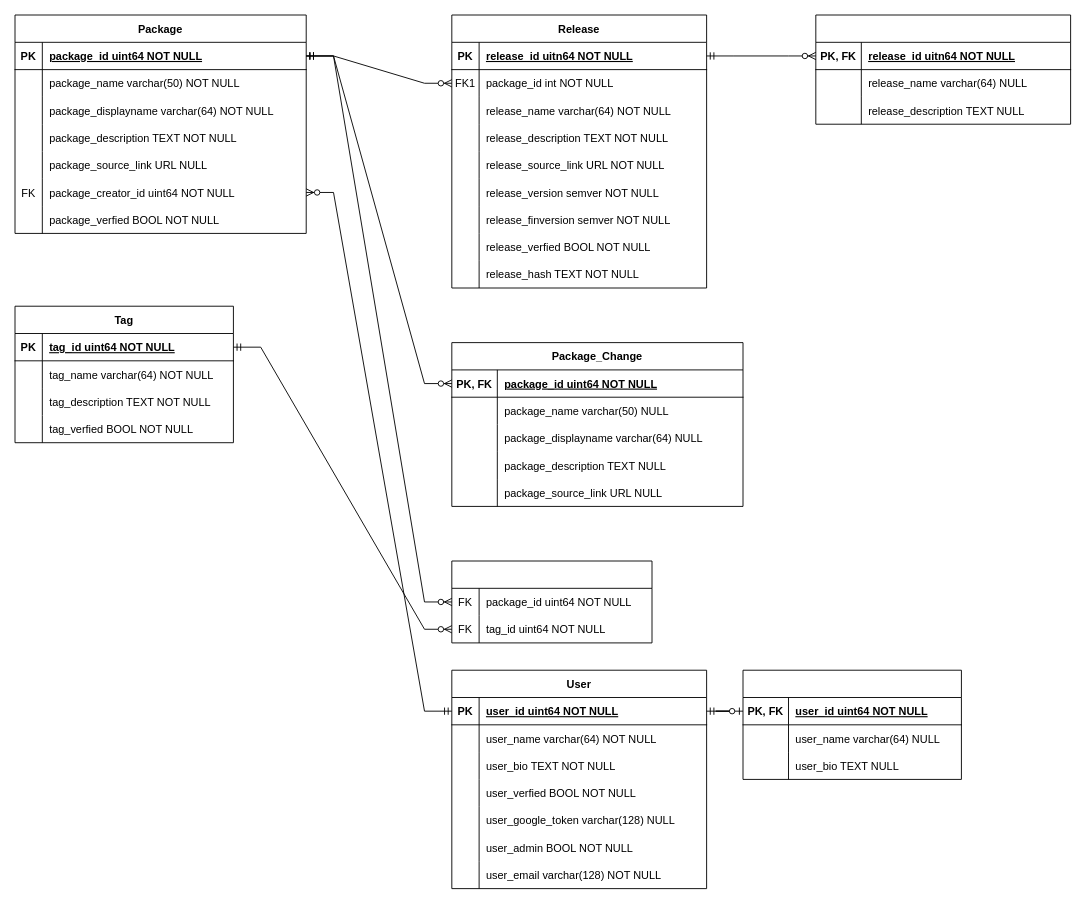
Some shapes in this 1086 by 904 pixel diagram are drawn without their labels. The shapes that lost their labels are listed below. From the top down, each one's box as (x1, y1, x2, y2) in pixels, then its label:
(815, 14, 1071, 124): Release_Change
(451, 560, 652, 643): Package_Tag
(742, 669, 961, 779): User_Change
